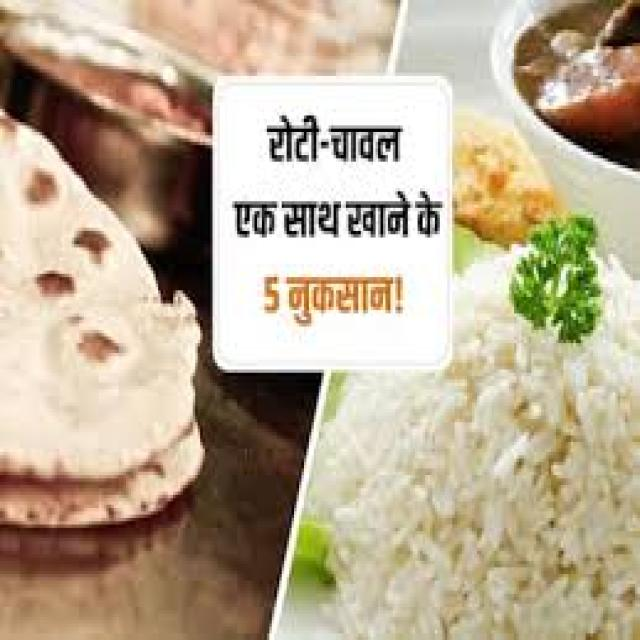ROTI: (0, 106, 193, 505)
